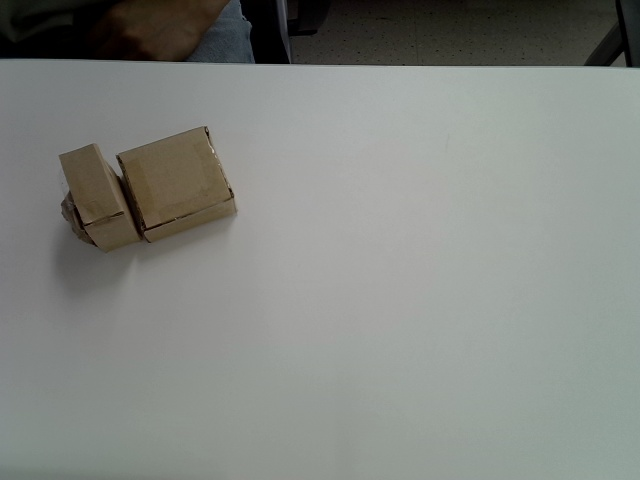defect: (59, 143, 136, 254)
normal: (117, 126, 237, 245)
